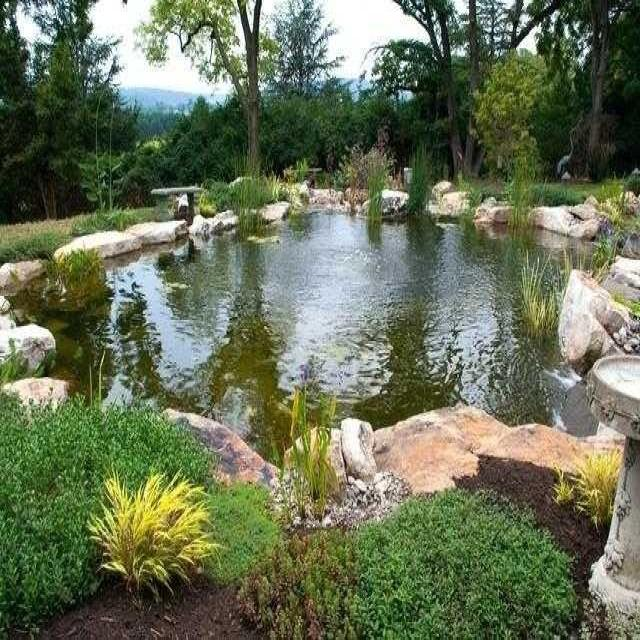Ponds: (1, 176, 640, 535)
